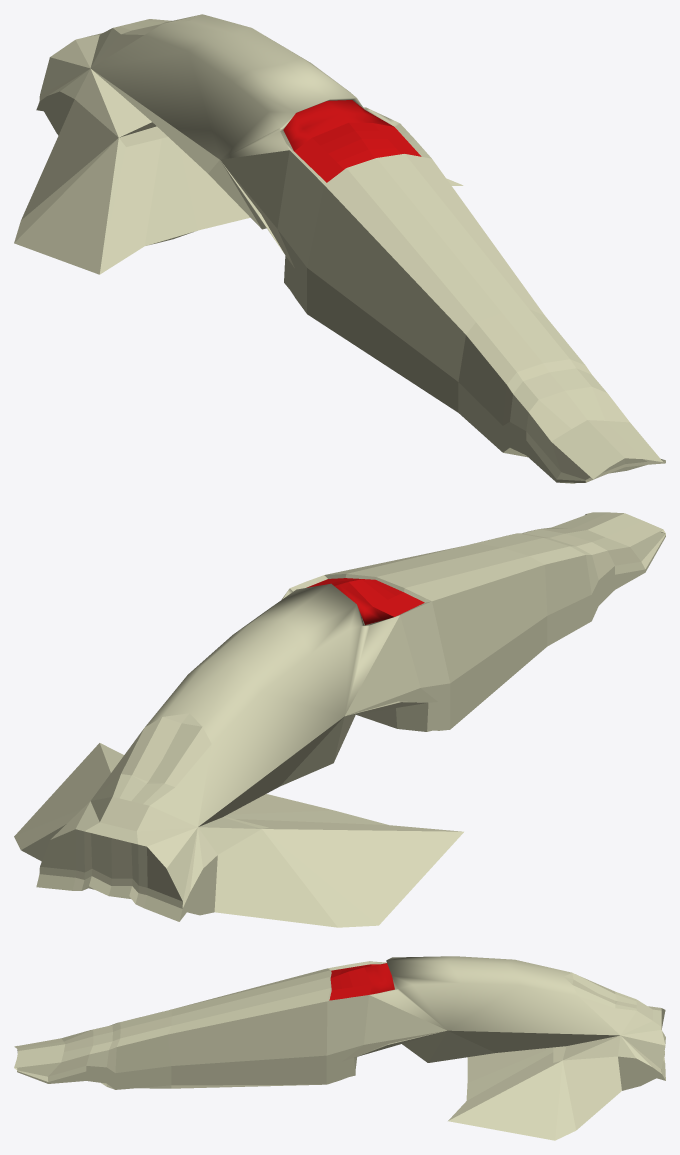
File: Ship2.fbx
The picture shows the model from 3 angles, top to bottom: view 1: azimuth 30°, elevation 25°; view 2: azimuth 150°, elevation 25°; view 3: azimuth 270°, elevation 25°; orthographic projection. The views are drawn at different scales.
Parts seen in each view (by area): view 1: Ship; view 2: Ship; view 3: Ship.
Part boxes in pixels (x1,y1,x2,y2): Ship: (14,14,665,483); Ship: (14,512,665,927); Ship: (14,956,665,1140).
Size of the model in its own units: 335 by 174 by 827.
